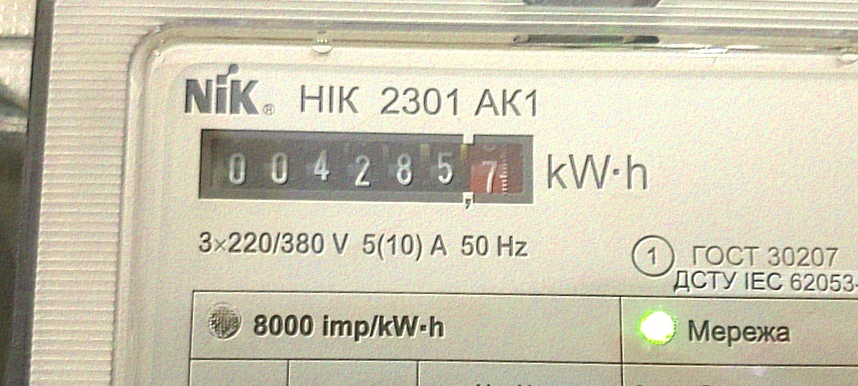0: (268, 148, 291, 186), (226, 149, 248, 186)
2: (352, 152, 372, 188)
4: (312, 146, 331, 182)
5: (433, 148, 455, 185)
7: (478, 158, 499, 194)
8: (392, 150, 415, 188)
screen: (182, 111, 551, 224)
